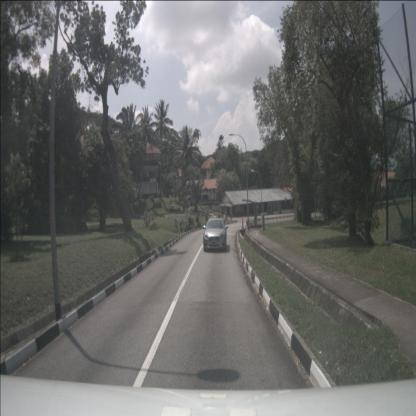vehicle-car: (203, 218, 227, 252)
